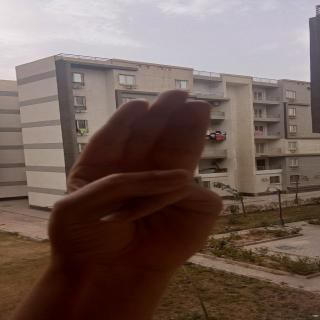THA: (35, 84, 235, 262)
